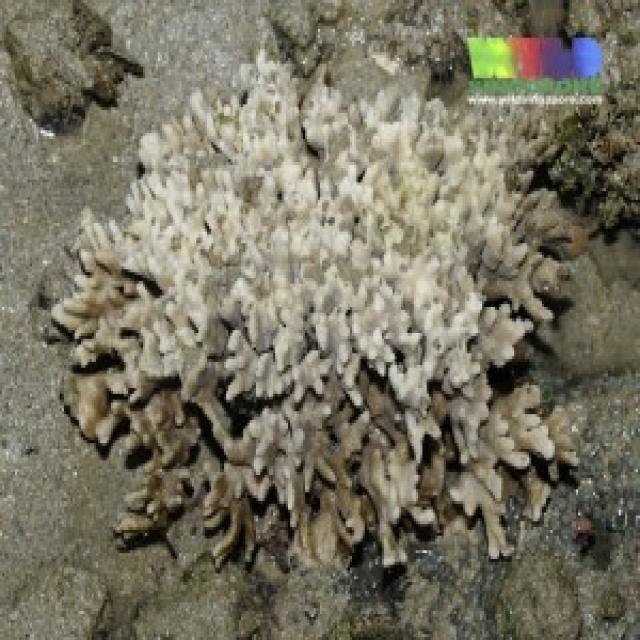Bleached: (39, 55, 573, 586)
Healthy: (265, 6, 640, 75), (521, 82, 640, 270), (8, 8, 145, 137)
